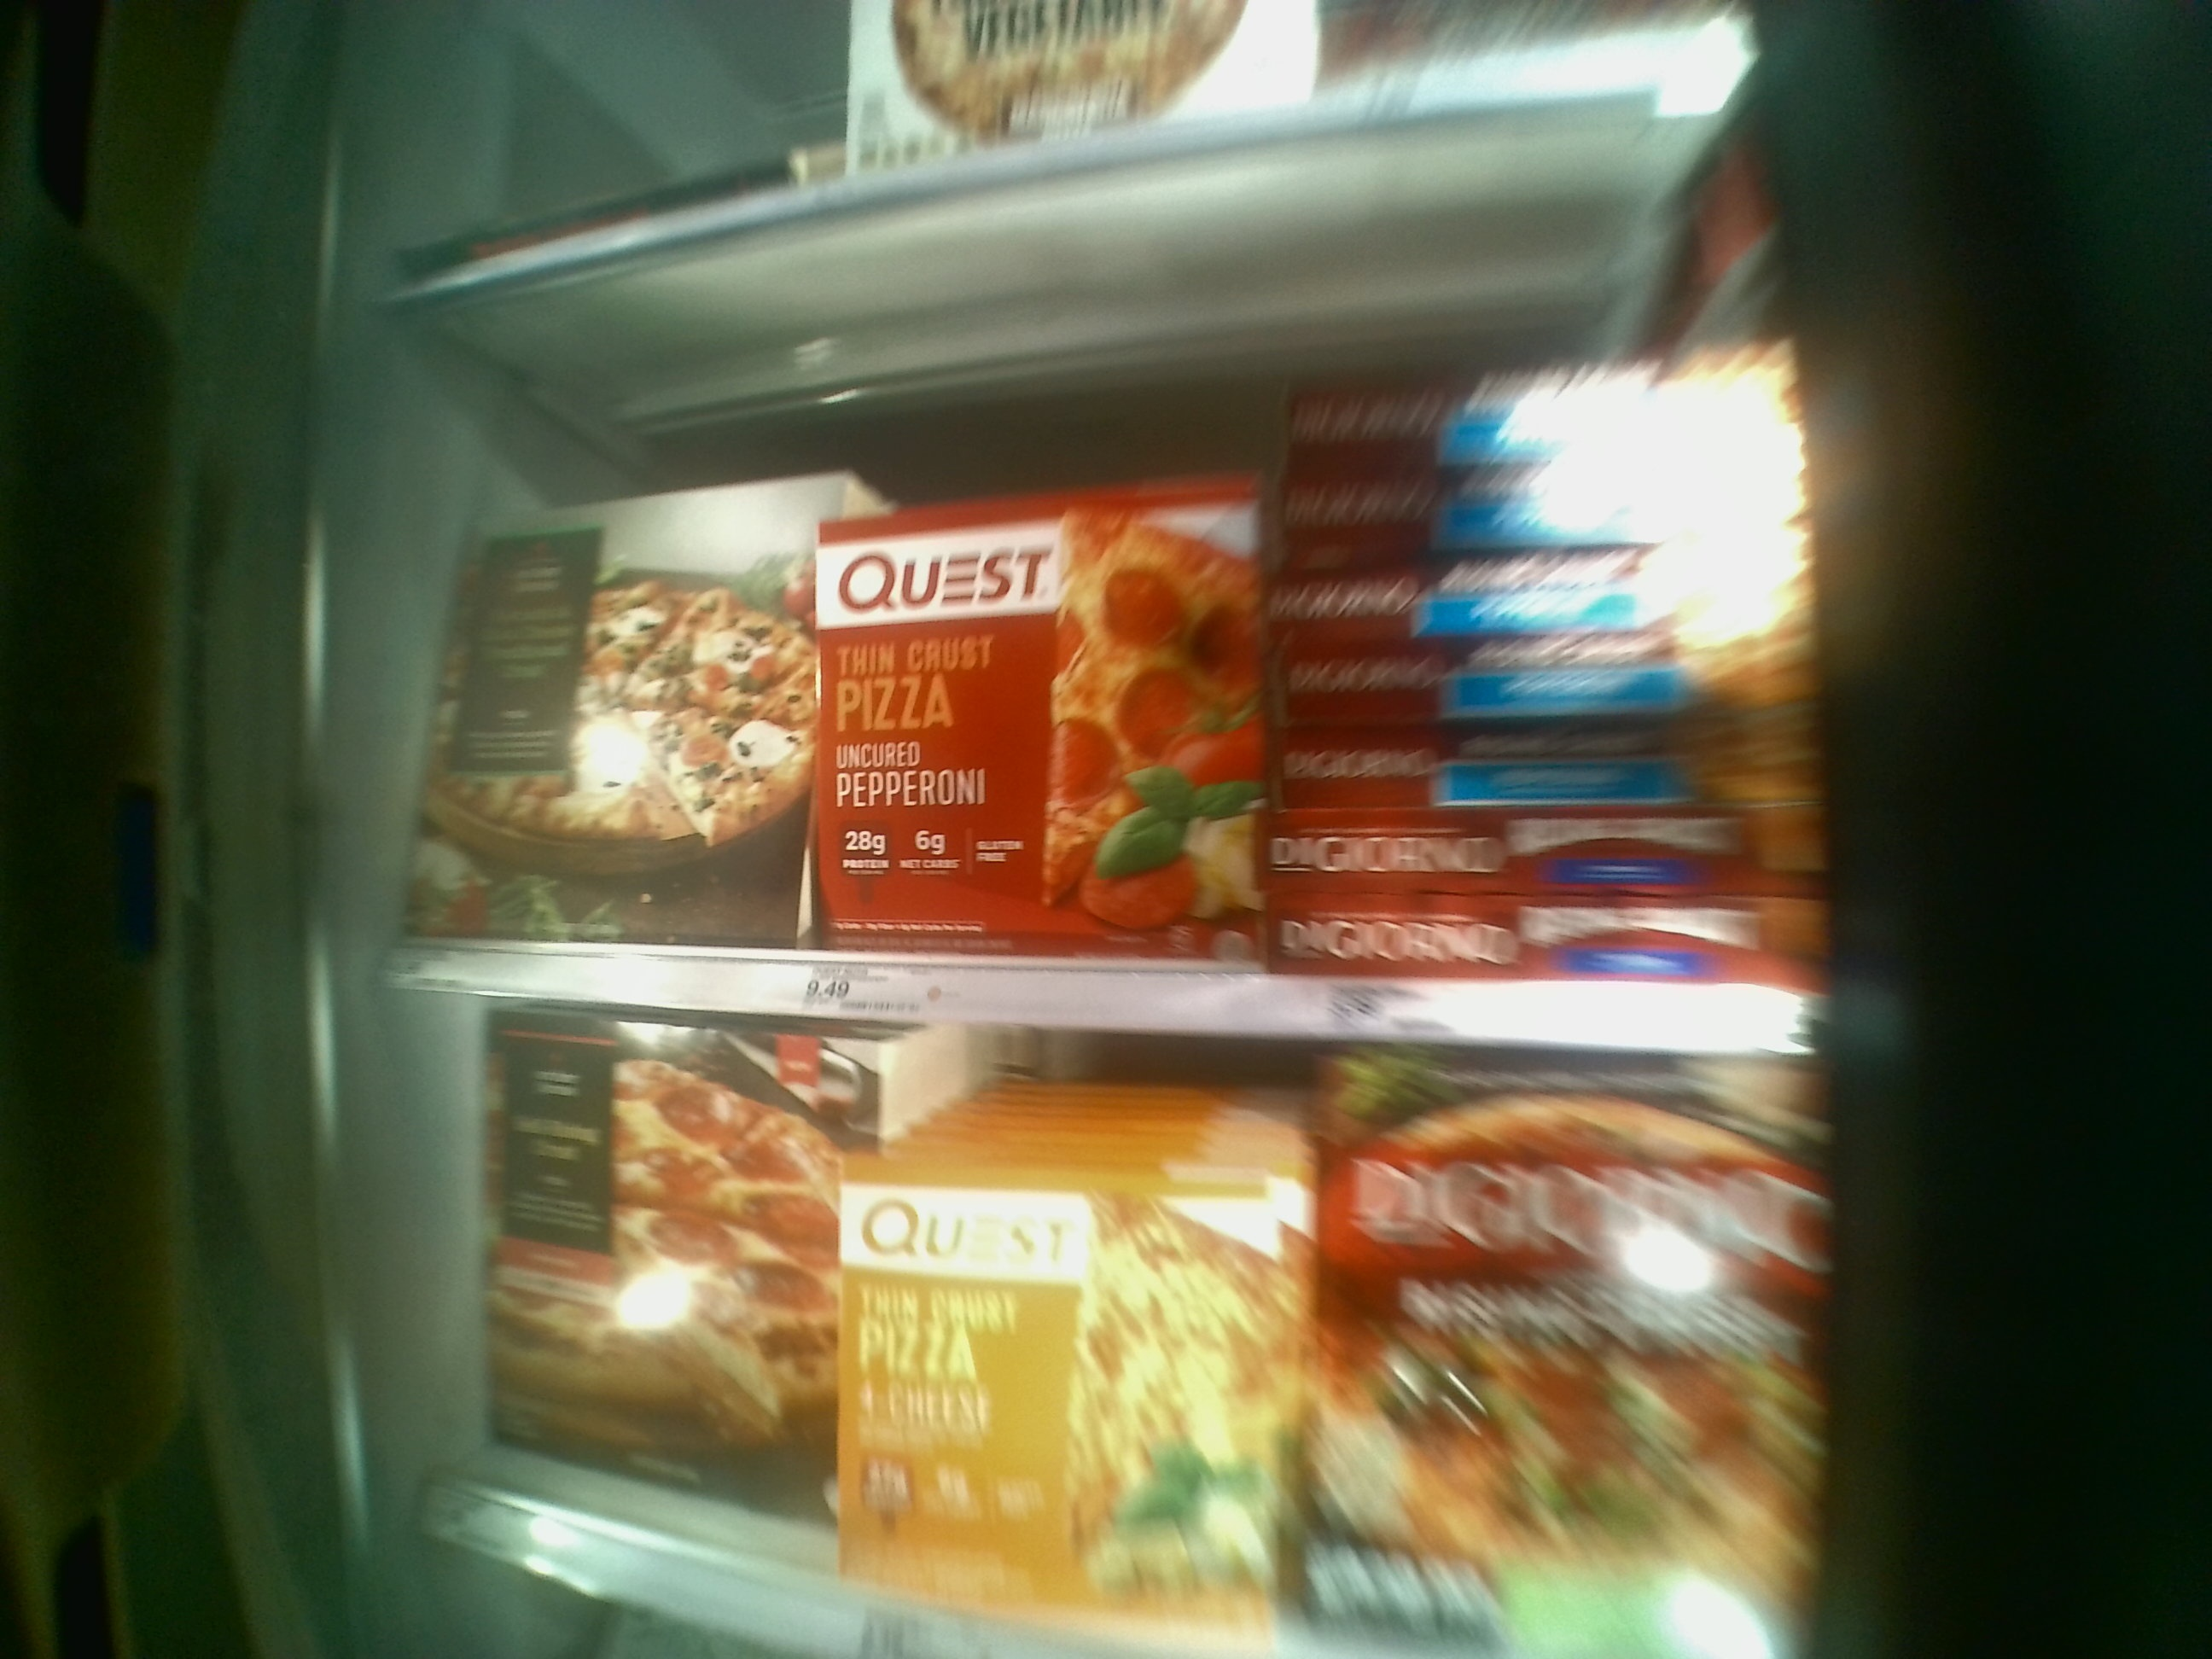pizza: (1331, 1105, 1794, 1657), (819, 521, 1273, 960), (843, 1185, 1270, 1628), (451, 1019, 824, 1516), (411, 497, 801, 943), (1275, 558, 1797, 636), (1289, 908, 1820, 983), (1282, 652, 1801, 728), (1282, 467, 1797, 544), (1277, 373, 1806, 441), (1270, 819, 1803, 885), (1261, 748, 1792, 814)
